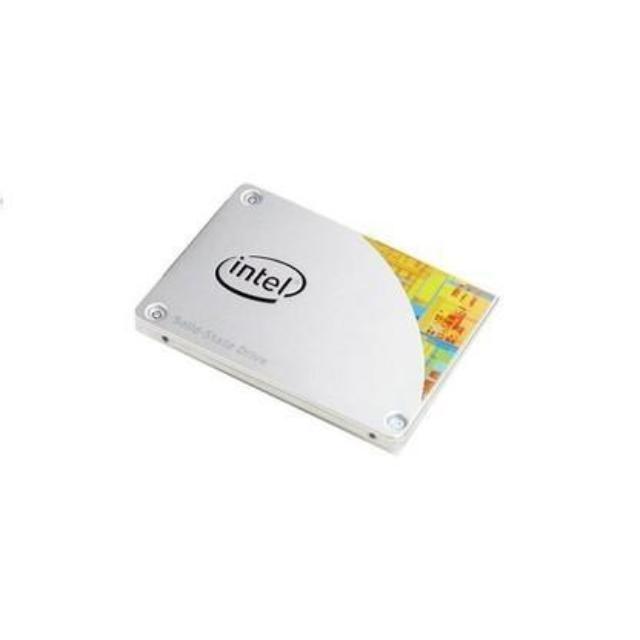DISK: (129, 177, 500, 468)
